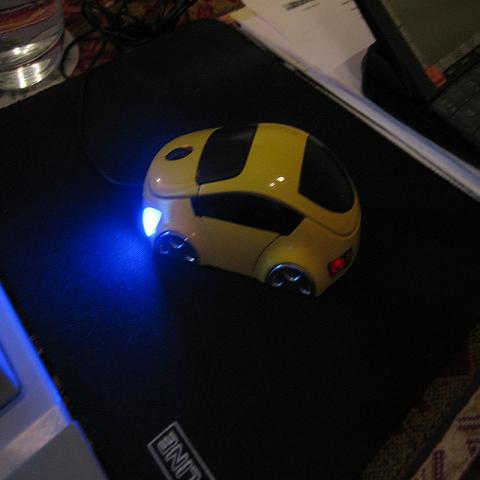car: (142, 124, 362, 327)
